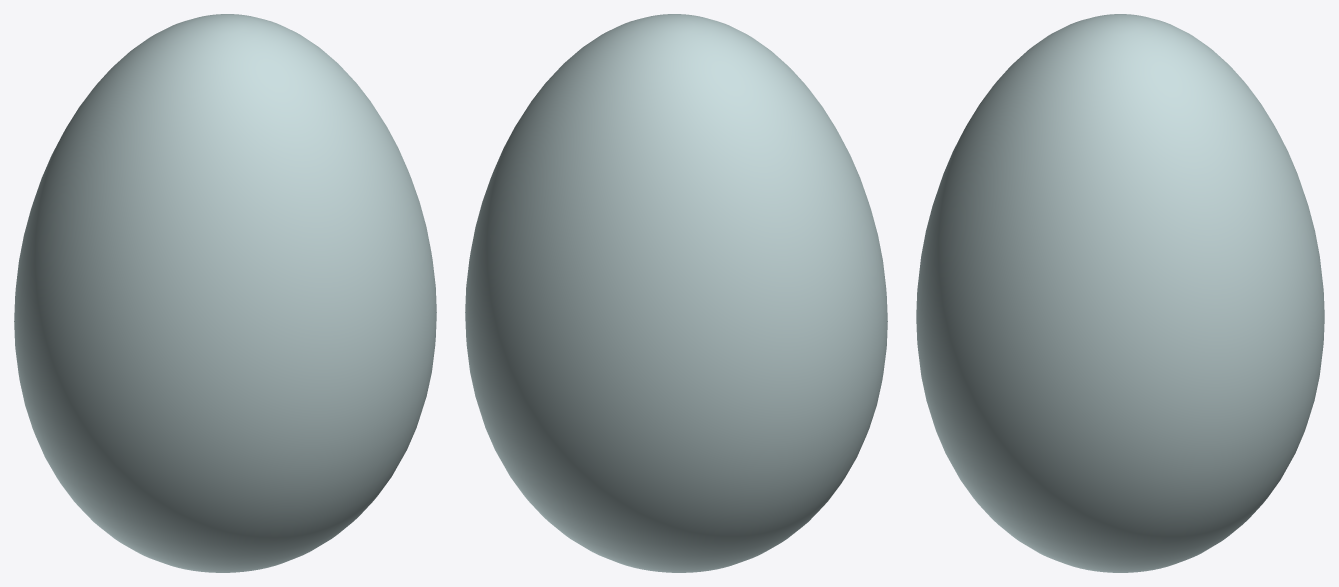
The picture shows the model from 3 angles, left to right: view 1: azimuth 30°, elevation 25°; view 2: azimuth 150°, elevation 25°; view 3: azimuth 270°, elevation 25°; orthographic projection.
Visible parts, largest first — view 1: falling-drop; view 2: falling-drop; view 3: falling-drop.
Boxes of the visible parts, left/top/right/bottom form: falling-drop: left=14, top=14, right=436, bottom=572; falling-drop: left=465, top=14, right=887, bottom=572; falling-drop: left=916, top=14, right=1324, bottom=572.
Bounding box in the file's own units: 1 × 1.38 × 0.9647.
